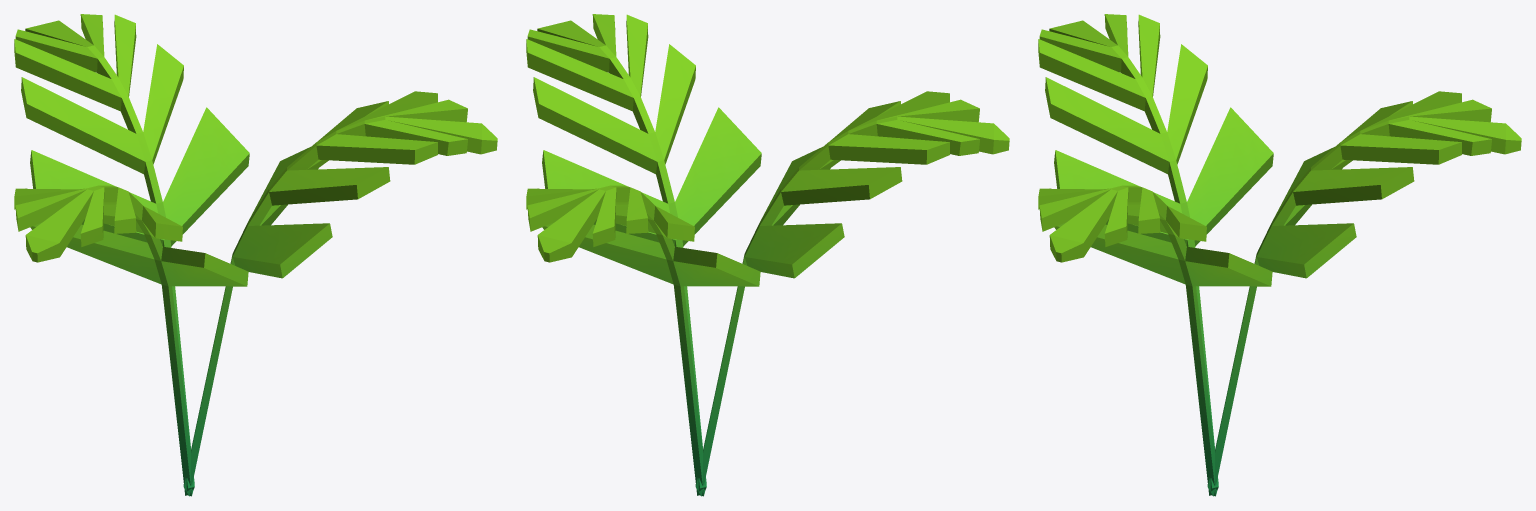
Rendered from carrot1.glb.
The picture shows the model from 3 angles, left to right: view 1: azimuth 30°, elevation 25°; view 2: azimuth 150°, elevation 25°; view 3: azimuth 270°, elevation 25°; orthographic projection.
Visible parts, largest first — view 1: Carrot1; view 2: Carrot1; view 3: Carrot1.
Part boxes in pixels (x1,y1,x2,y2): Carrot1: (14, 14, 497, 496); Carrot1: (526, 14, 1009, 496); Carrot1: (1038, 14, 1521, 496).
Size of the model in its own units: 0.4249 by 0.3293 by 0.3818.
Materials: 1 (1 with a texture image).
